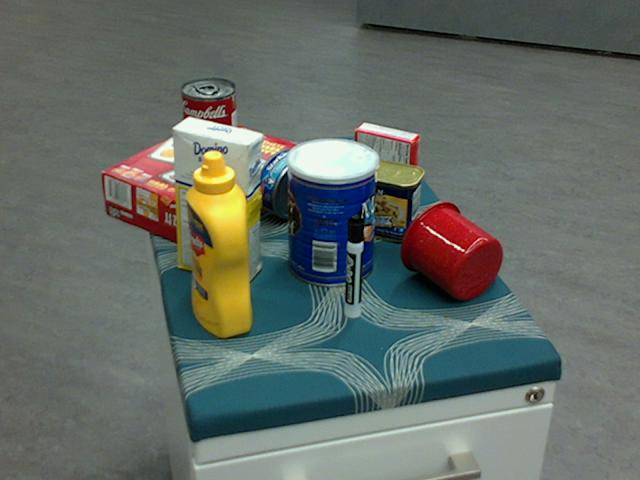cracker_box: (101, 116, 303, 254)
gelatin_box: (354, 122, 420, 188)
large_marker: (345, 215, 363, 319)
master_chef_can: (286, 138, 378, 286)
mug: (400, 200, 503, 300)
mustard_bottle: (186, 151, 251, 338)
potted_meat_can: (338, 156, 423, 240)
sugar_box: (172, 117, 261, 285)
tomato_soup_can: (180, 78, 238, 174)
tuna_fish_can: (254, 148, 318, 218)
